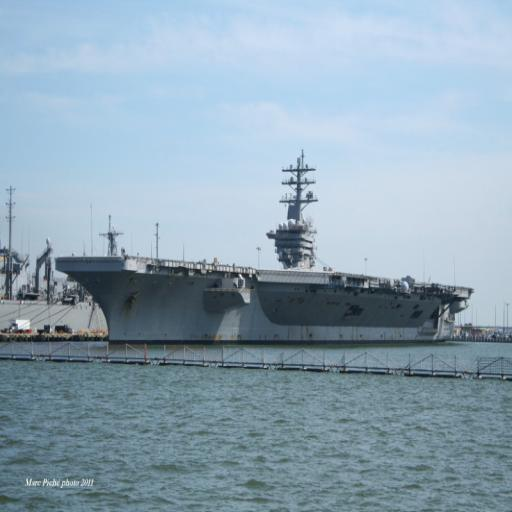Portanaves: (54, 148, 479, 350)
